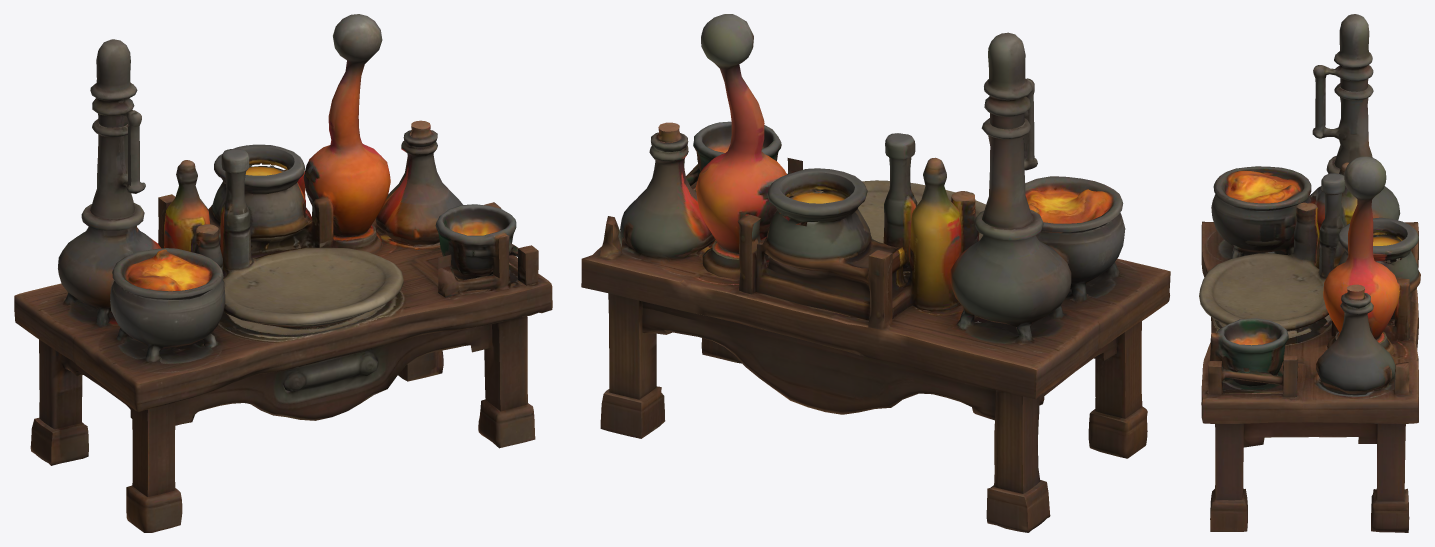
File: alchemy lab.glb
3 renders of one model, left to right at view 1: azimuth 30°, elevation 25°; view 2: azimuth 150°, elevation 25°; view 3: azimuth 270°, elevation 25°, orthographic. The views are drawn at different scales.
Parts seen in each view (by area): view 1: Mesh0; view 2: Mesh0; view 3: Mesh0.
Part boxes in pixels (<box>): Mesh0: <box>14,14,552,532</box>; Mesh0: <box>581,14,1170,532</box>; Mesh0: <box>1199,14,1420,532</box>.
Bounding box in the file's own units: 2 × 1.93 × 1.04.
1 material, 1 textured.
